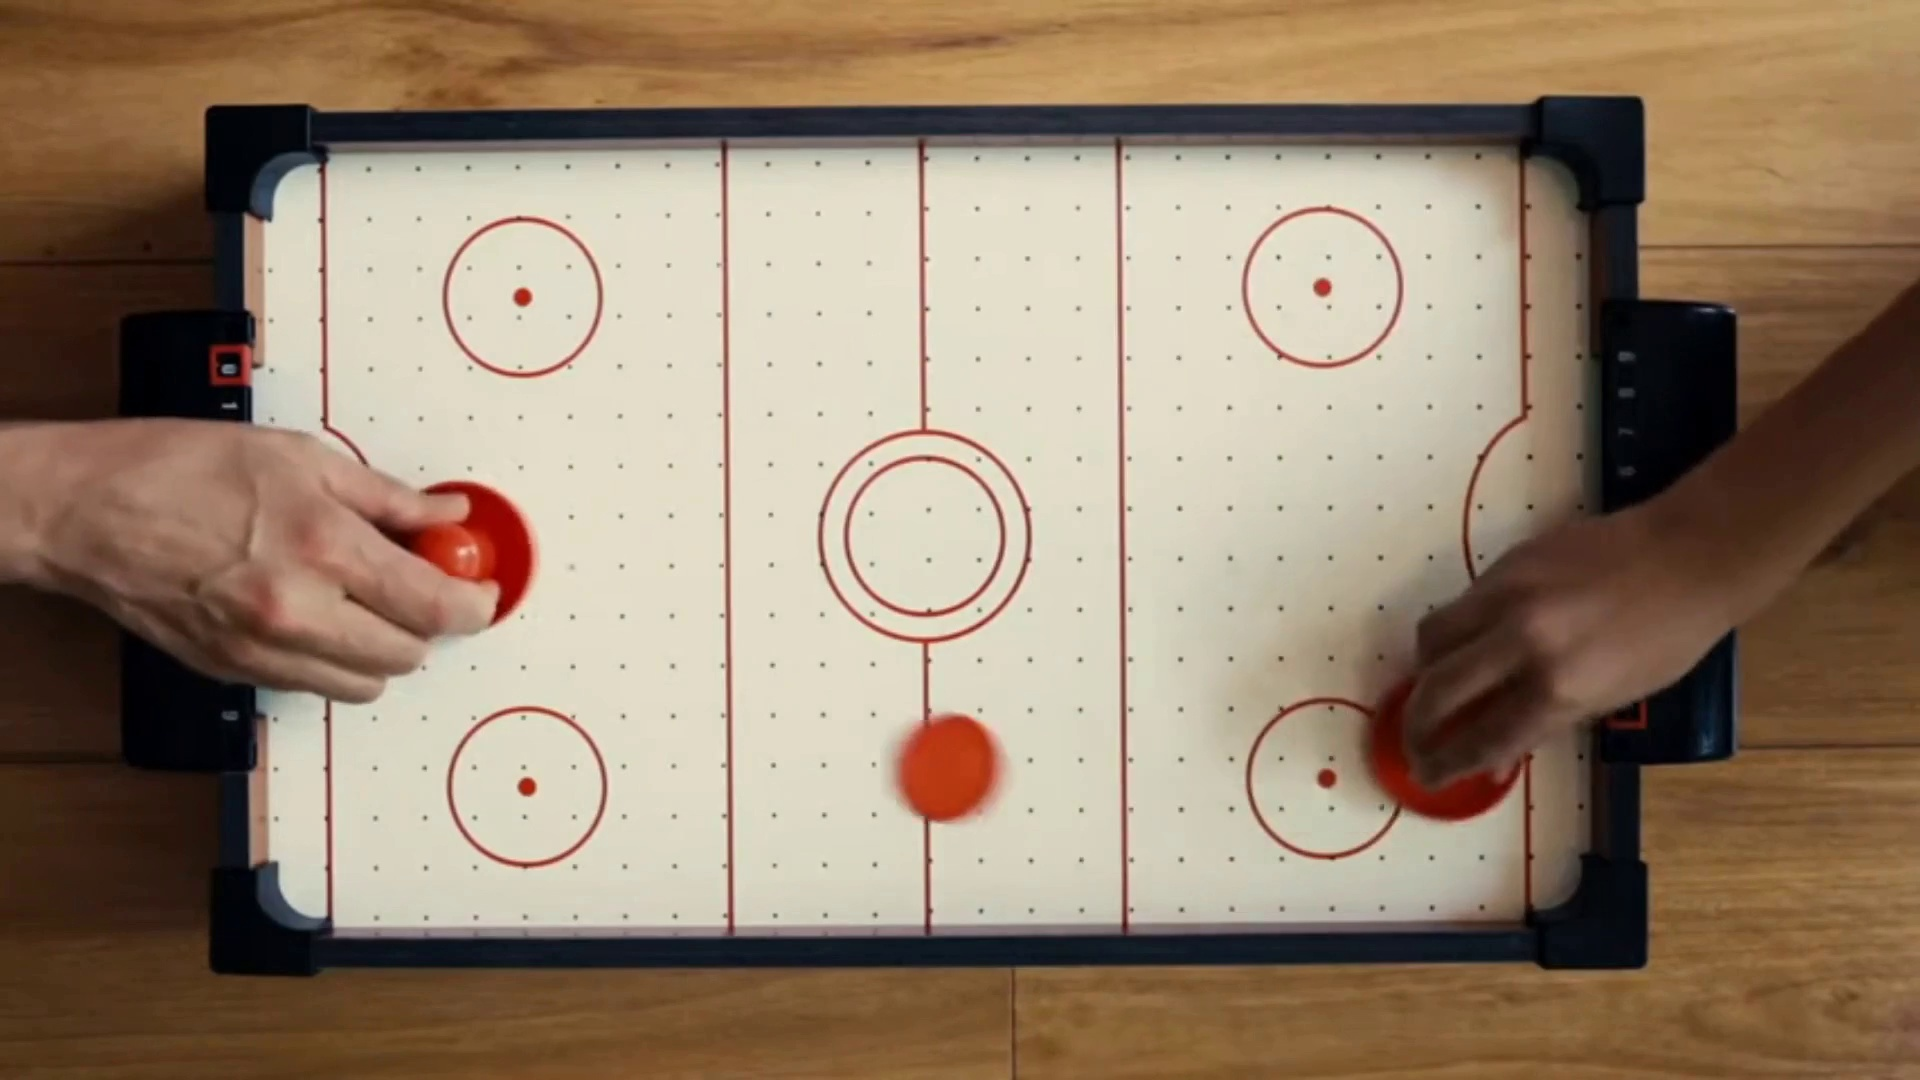player: (1349, 660, 1525, 822), (393, 482, 537, 631)
puck: (888, 713, 1007, 827)
table: (244, 145, 1601, 924)
